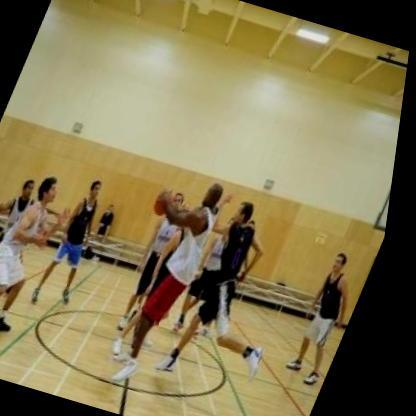basketball: (150, 185, 186, 221)
